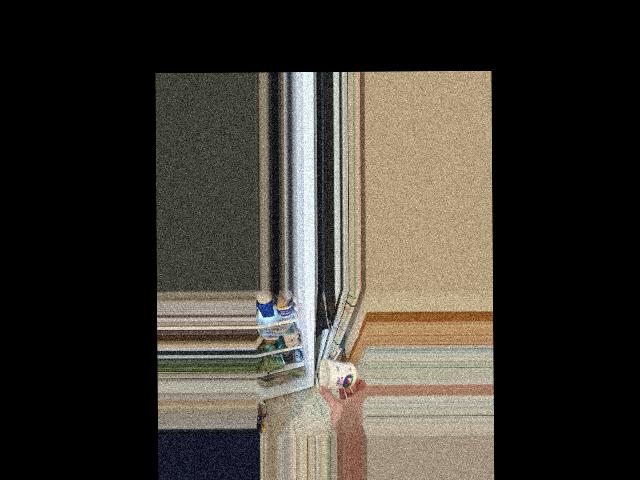cotage: (320, 357, 359, 389)
